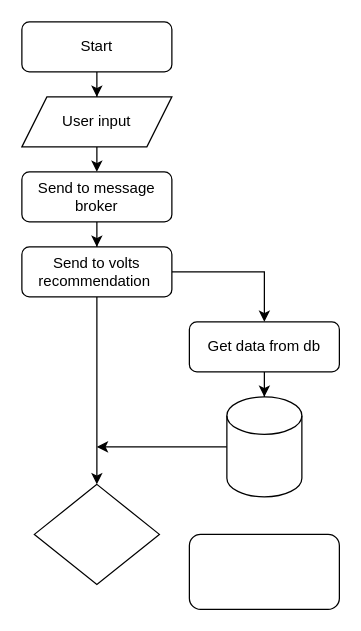
Image size: 361x631. Some labels were removed from this diagram. The shapes that lost their labels are listed below. From the top down, each one's centre as x and y in pixels, then its label:
the point at 264,446: Main DB
the point at 96,533: Is there a anomaly
